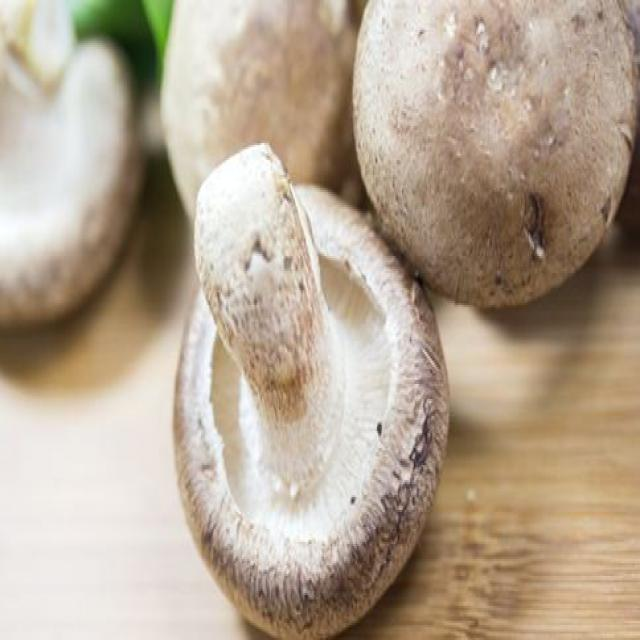Agaricus bisporus: (178, 145, 452, 638), (358, 0, 635, 309)
